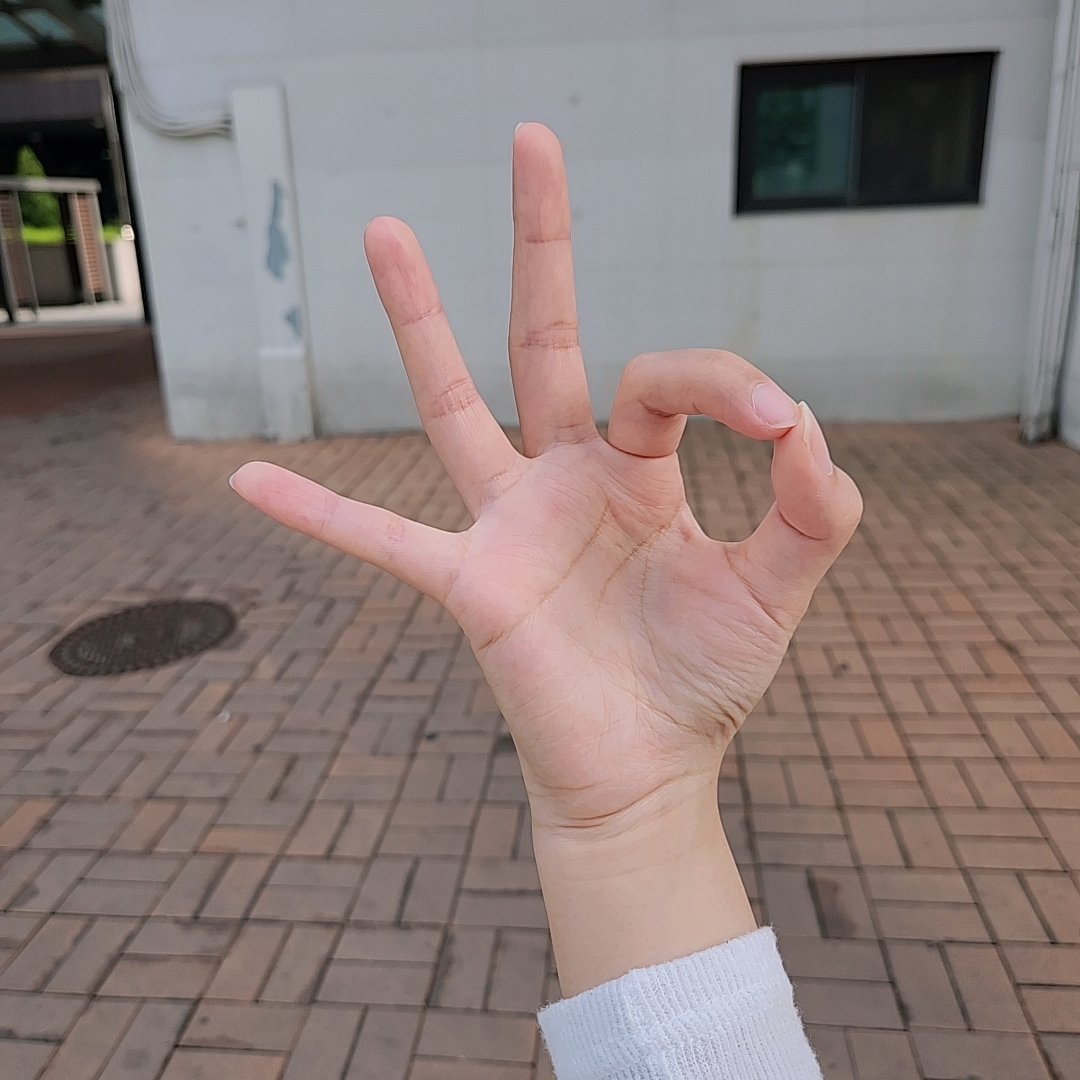see: (225, 123, 863, 762)
